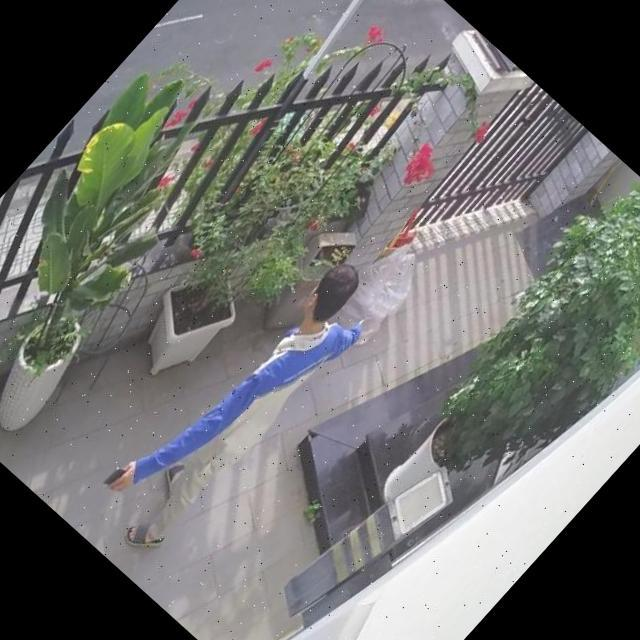person: (80, 240, 387, 565)
